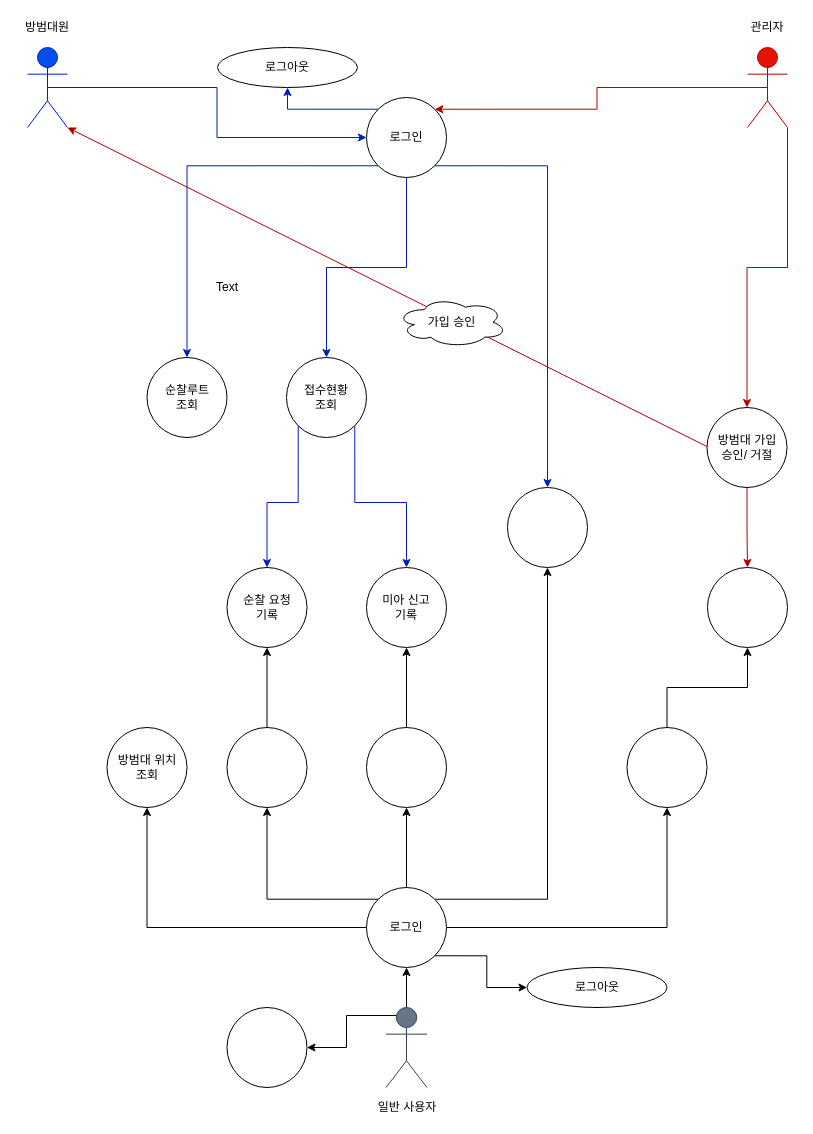
The diagram is 813 pixels wide and 1134 high, and some of its shapes have lost their labels. The shapes that lost their labels are listed below. From the top down, each one's box as (x1, y1, x2, y2) in pixels, then its label:
(506, 486, 588, 568): 마이페이지
(706, 566, 788, 648): 방범대 가입 대기
(226, 726, 307, 808): 순찰요청
(366, 726, 446, 808): 미아신고
(626, 726, 707, 808): 방범대 가입 신청
(226, 1006, 307, 1088): 회원가입
